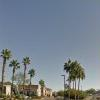Palm tree: (4, 42, 93, 86)
